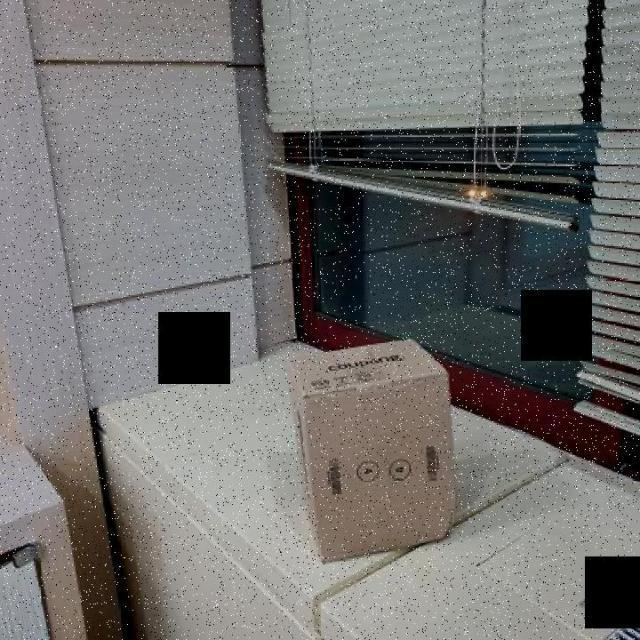box: (279, 328, 473, 572)
